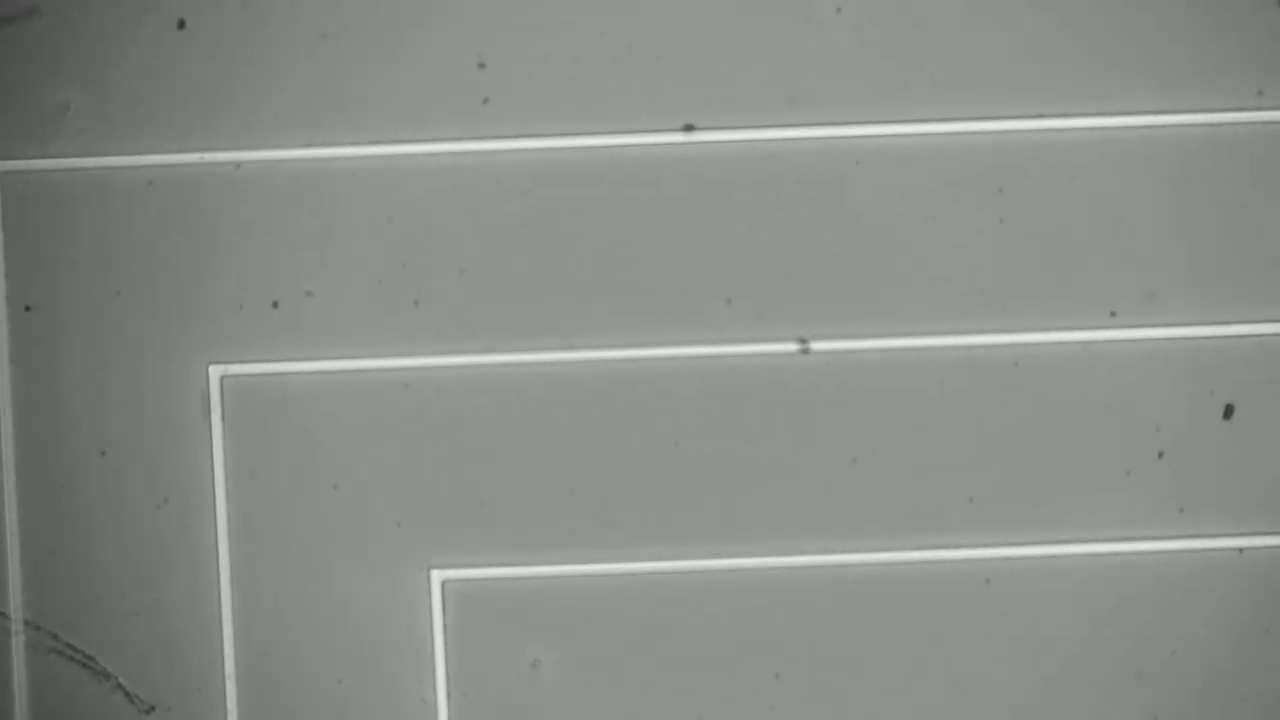scratch: (37, 614, 175, 719)
stains_enbedded: (795, 334, 819, 358)
